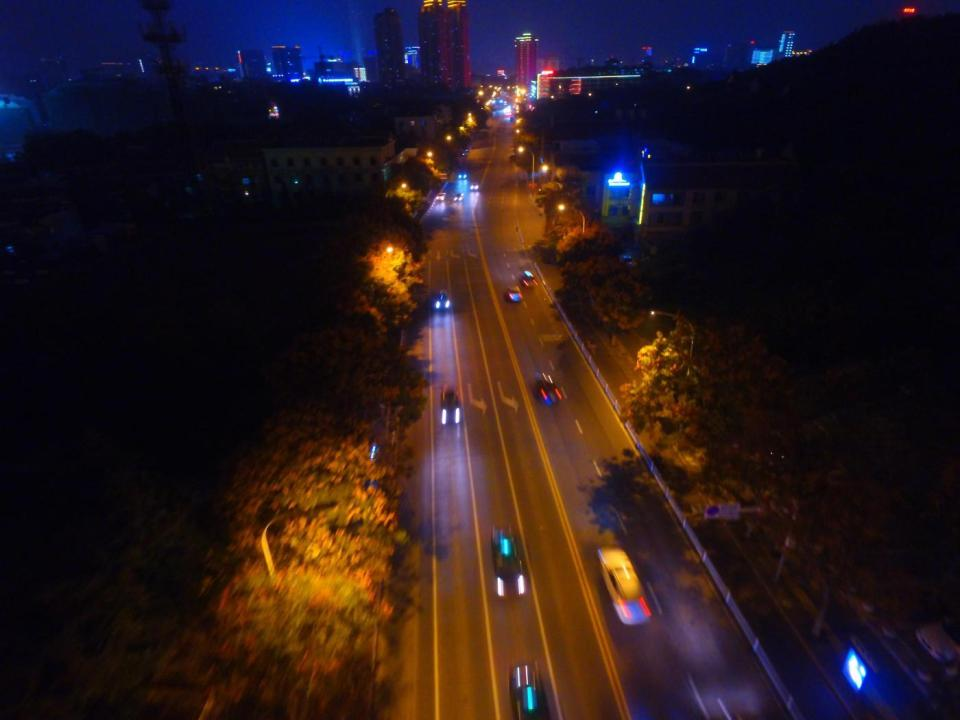car: (598, 548, 650, 628), (490, 528, 525, 598), (507, 663, 550, 719), (440, 385, 460, 423), (537, 372, 560, 404), (434, 290, 450, 308), (508, 285, 522, 303), (521, 270, 535, 288), (453, 192, 464, 202), (436, 191, 446, 202), (469, 182, 480, 192), (458, 173, 466, 182)
